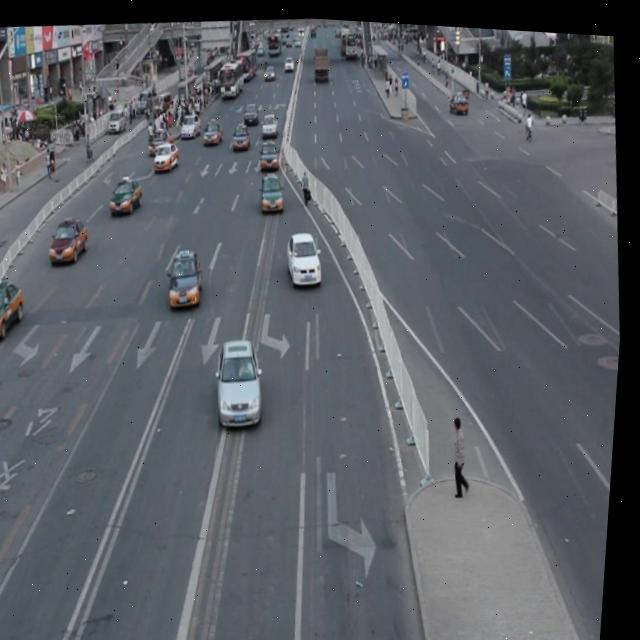car: (213, 328, 272, 426), (165, 244, 210, 308), (285, 223, 328, 285), (49, 214, 95, 265), (0, 272, 33, 343), (108, 171, 148, 216), (259, 168, 289, 212)
